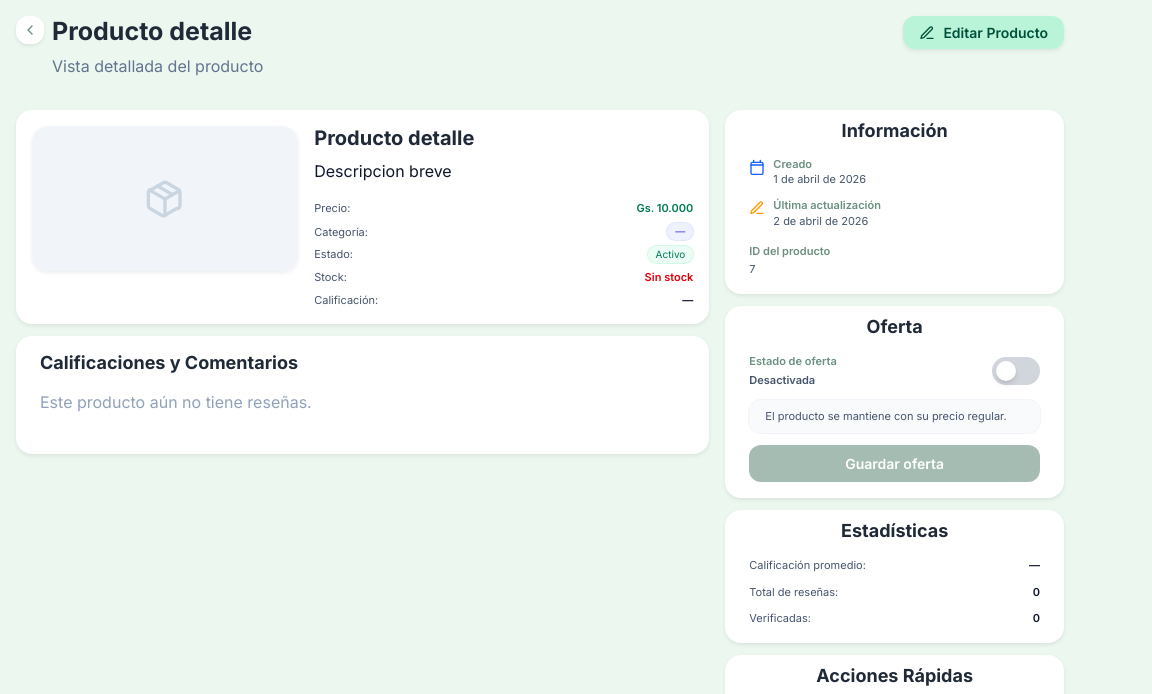
ProductDetailView › muestra error cuando falla la actualización de oferta
Click the switch named "activar oferta": (1016, 371) left=992, top=357, right=1040, bottom=385
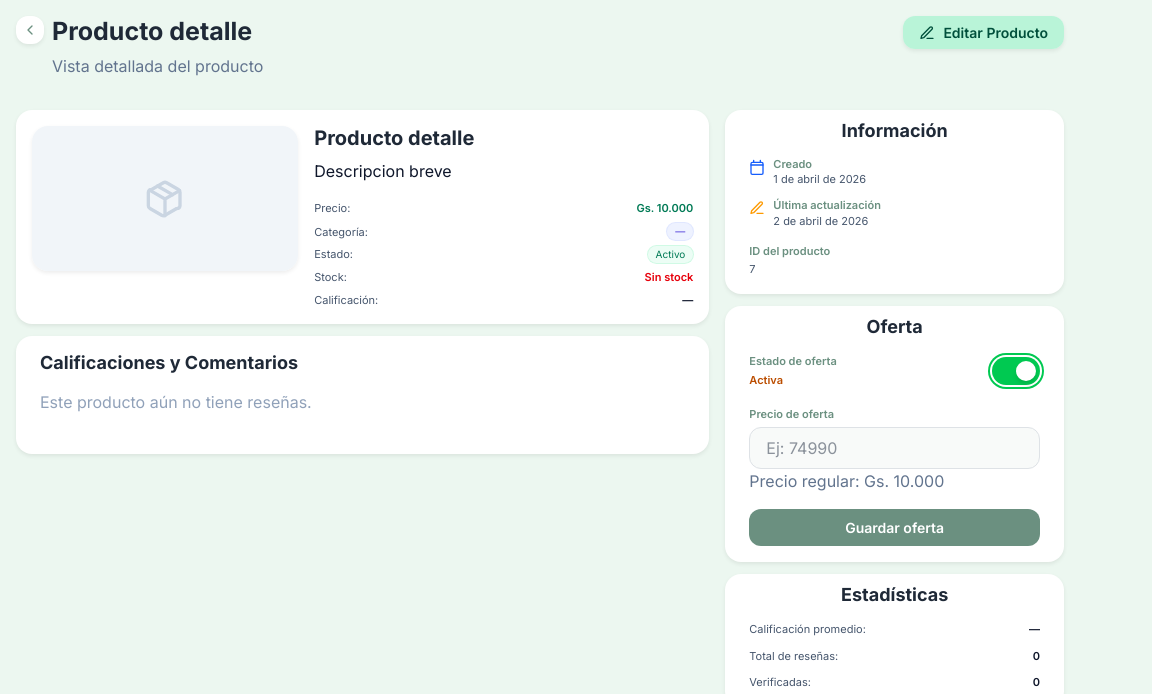
In the number field labelled "Precio de oferta": (895, 448) left=749, top=427, right=1040, bottom=469, type "8500"
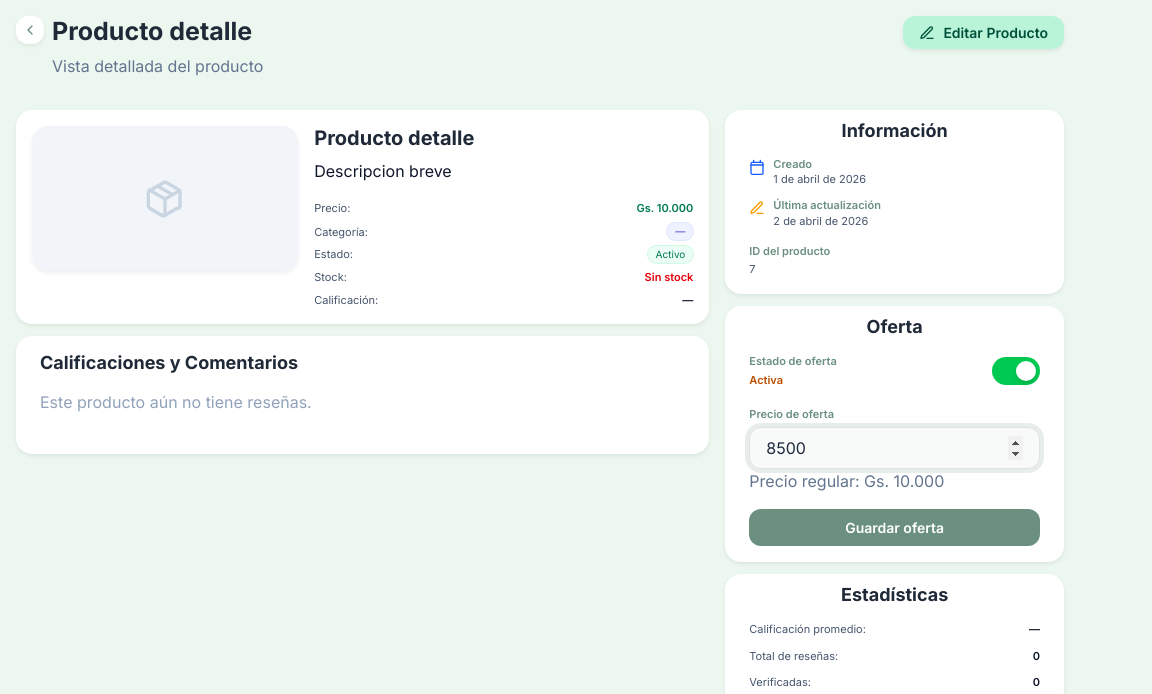
Click the button "Guardar oferta": (895, 527) left=749, top=509, right=1040, bottom=546
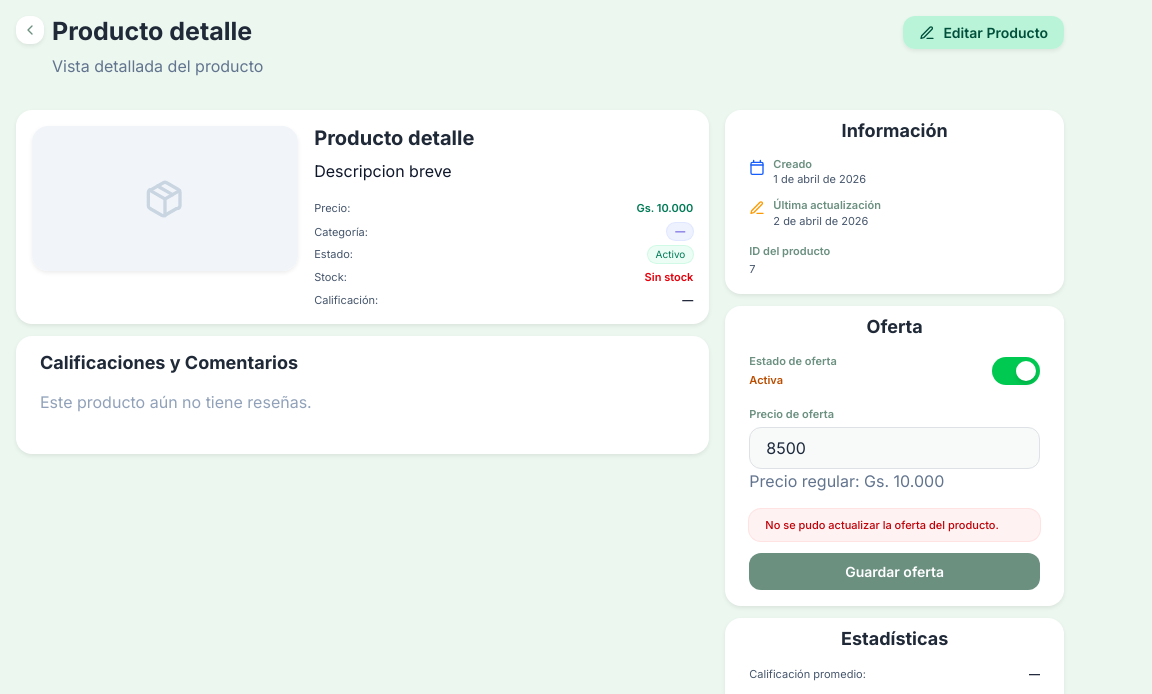
Result: the text "No se pudo actualizar la oferta del producto." is shown at left=749, top=509, right=1040, bottom=541
